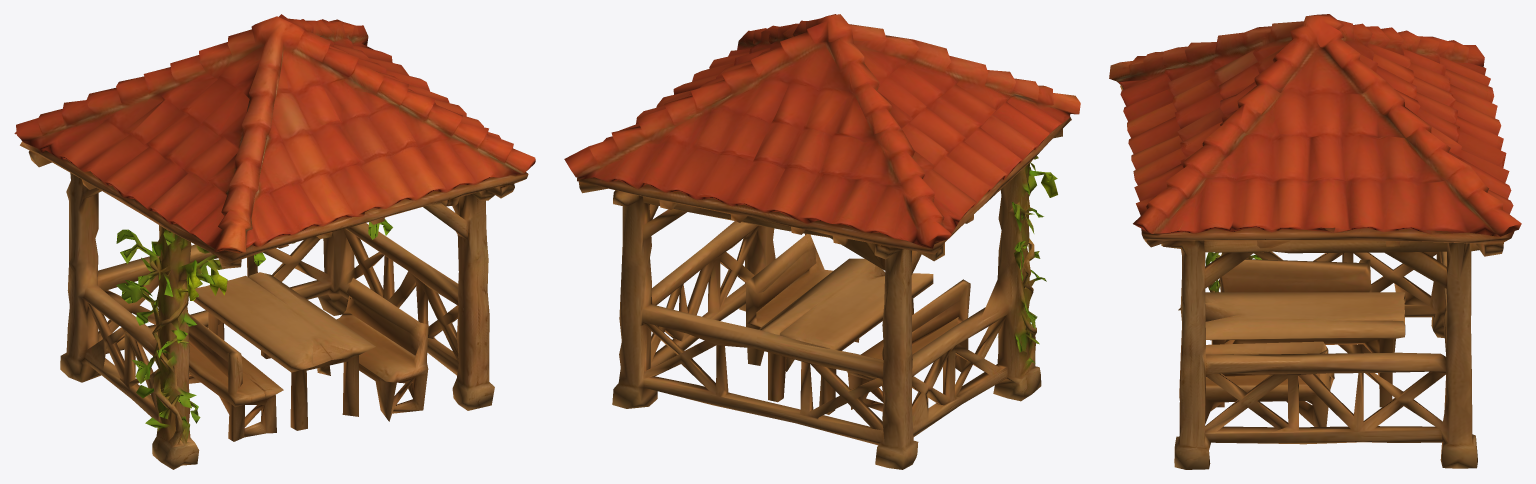
File: cardak-tripo.glb
3 views of the same model, side by side, from view 1: azimuth 30°, elevation 25°; view 2: azimuth 150°, elevation 25°; view 3: azimuth 270°, elevation 25° (orthographic). The views are drawn at different scales.
Parts seen in each view (by area): view 1: tripo_node_252789d8-3f22-40ab-9971-61bdecd82717; view 2: tripo_node_252789d8-3f22-40ab-9971-61bdecd82717; view 3: tripo_node_252789d8-3f22-40ab-9971-61bdecd82717.
Part boxes in pixels (bbox=[...]): tripo_node_252789d8-3f22-40ab-9971-61bdecd82717: bbox=[14, 14, 535, 469]; tripo_node_252789d8-3f22-40ab-9971-61bdecd82717: bbox=[564, 14, 1080, 469]; tripo_node_252789d8-3f22-40ab-9971-61bdecd82717: bbox=[1109, 14, 1521, 469].
Size of the model in its own units: 0.9785 by 0.9505 by 0.9265.
Materials: 1 (1 with a texture image).
